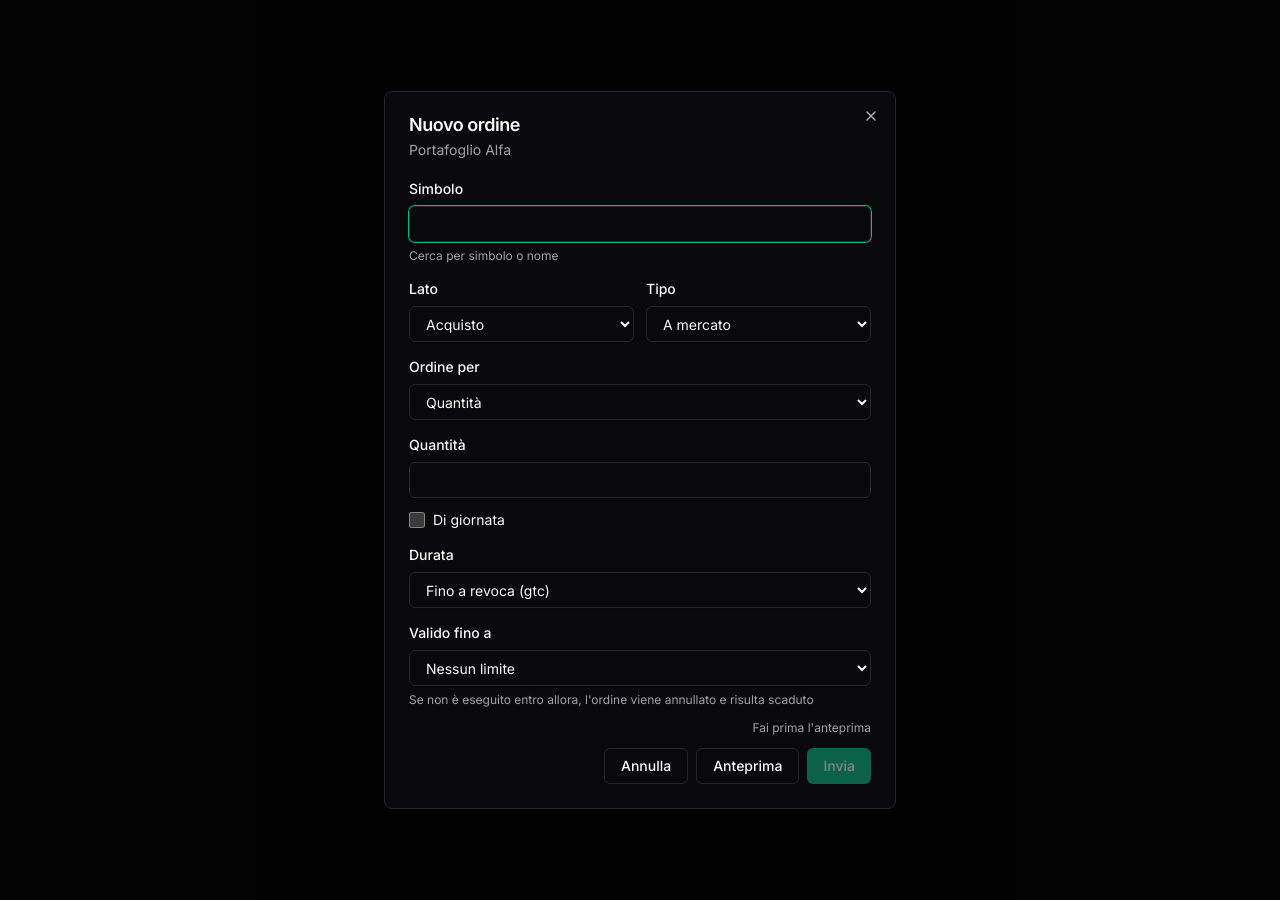
Scenario: OrderForm › shows the refusal of the preview and keeps Invia disabled
The width and height of the screenshot is (1280, 900).
Type "aap" into the field labelled "Simbolo".
click(640, 224); type("aap")  # box [409,206,871,242]
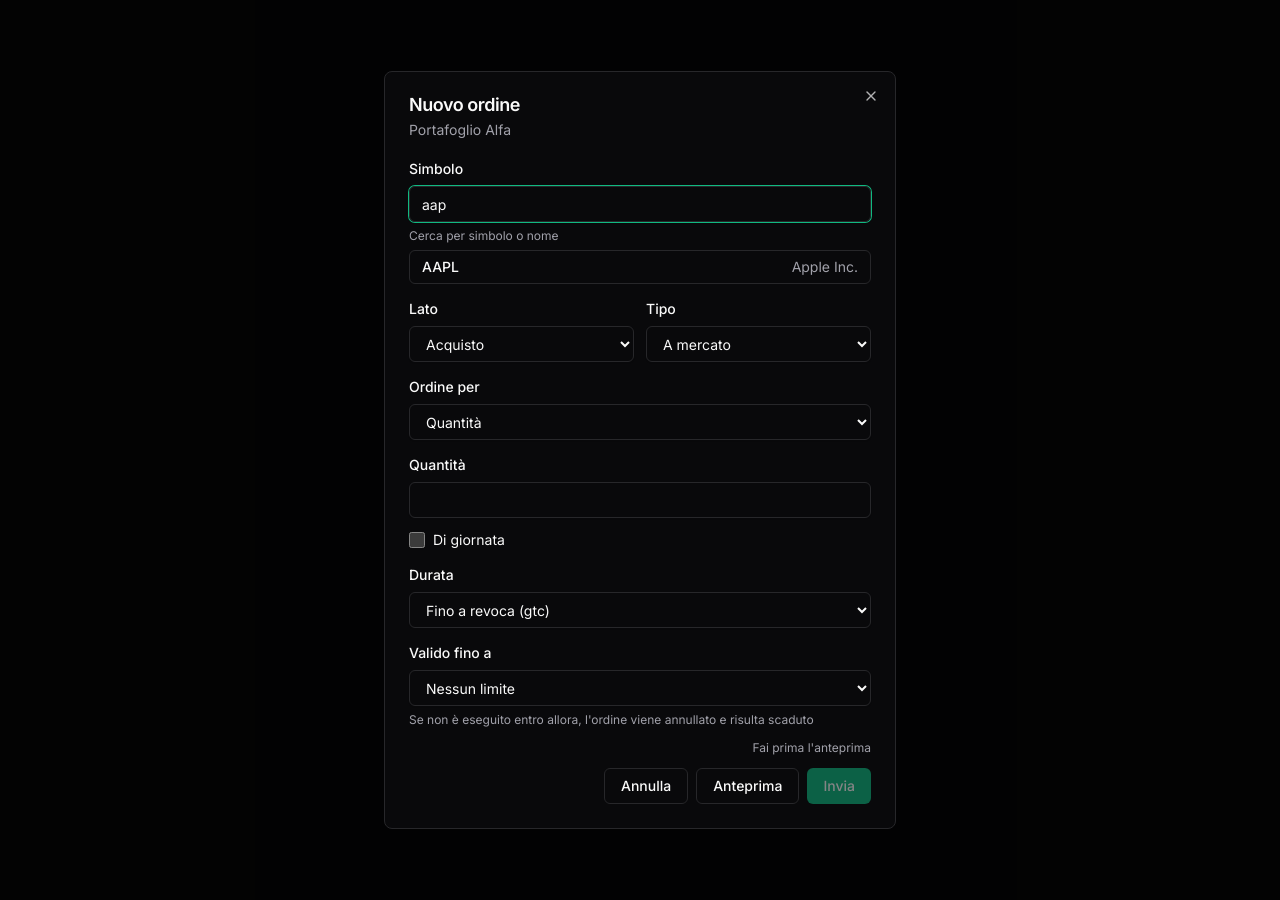
Click the button "AAPL Apple Inc.".
click(440, 266)  # box [410,251,870,283]
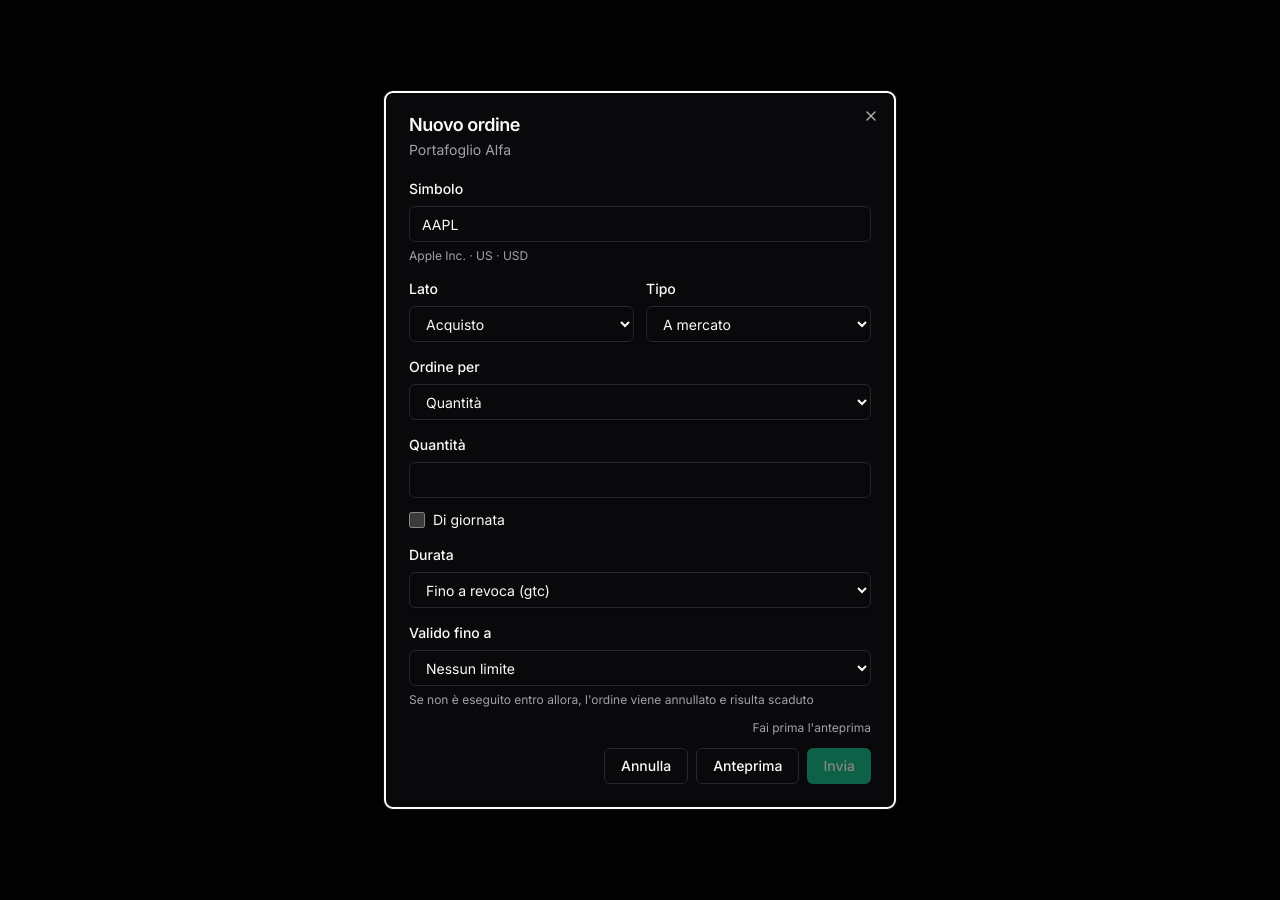
Type "100" into the field labelled "Quantità".
click(640, 480); type("100")  # box [409,462,871,498]
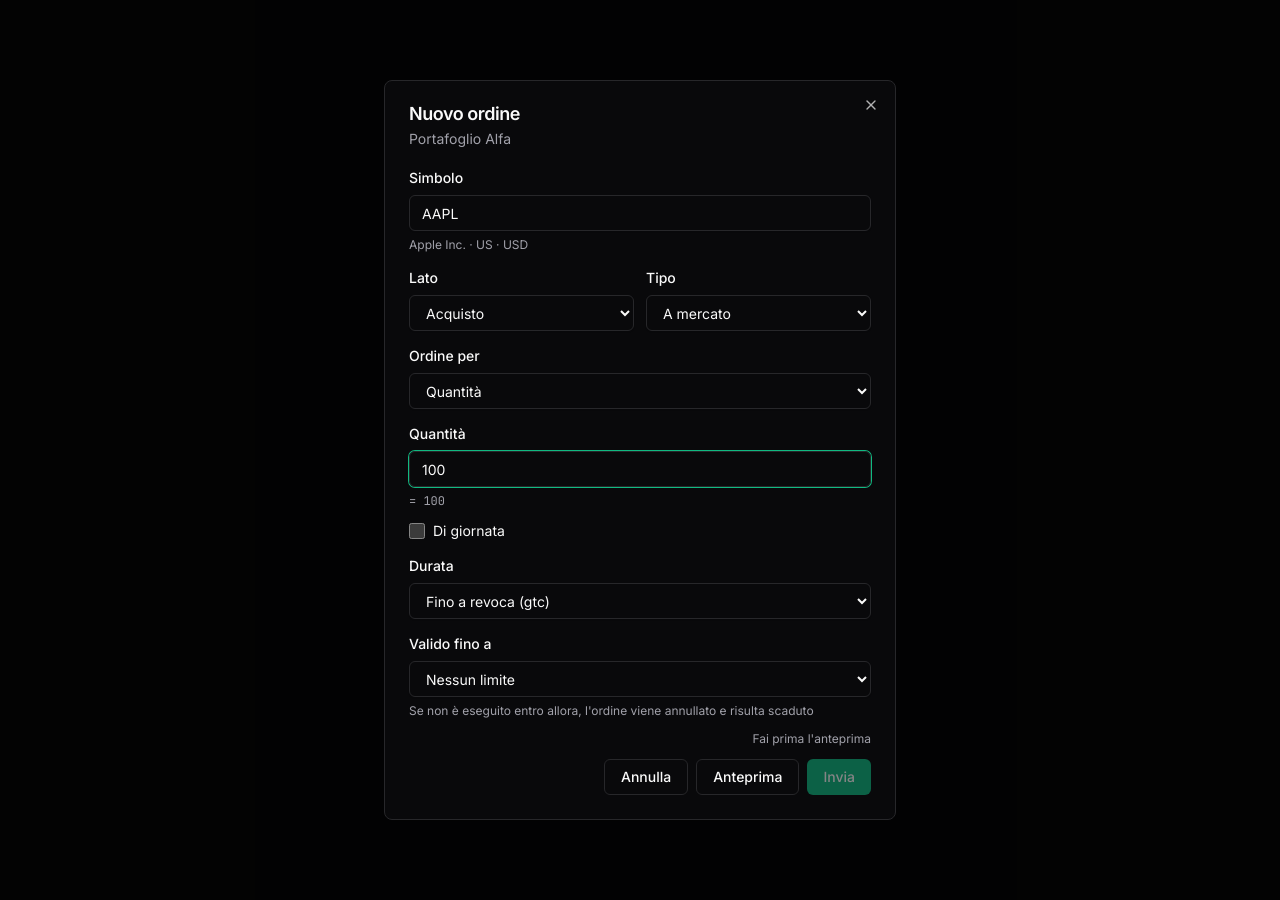
Click the button "Anteprima".
click(748, 777)  # box [696,759,800,795]
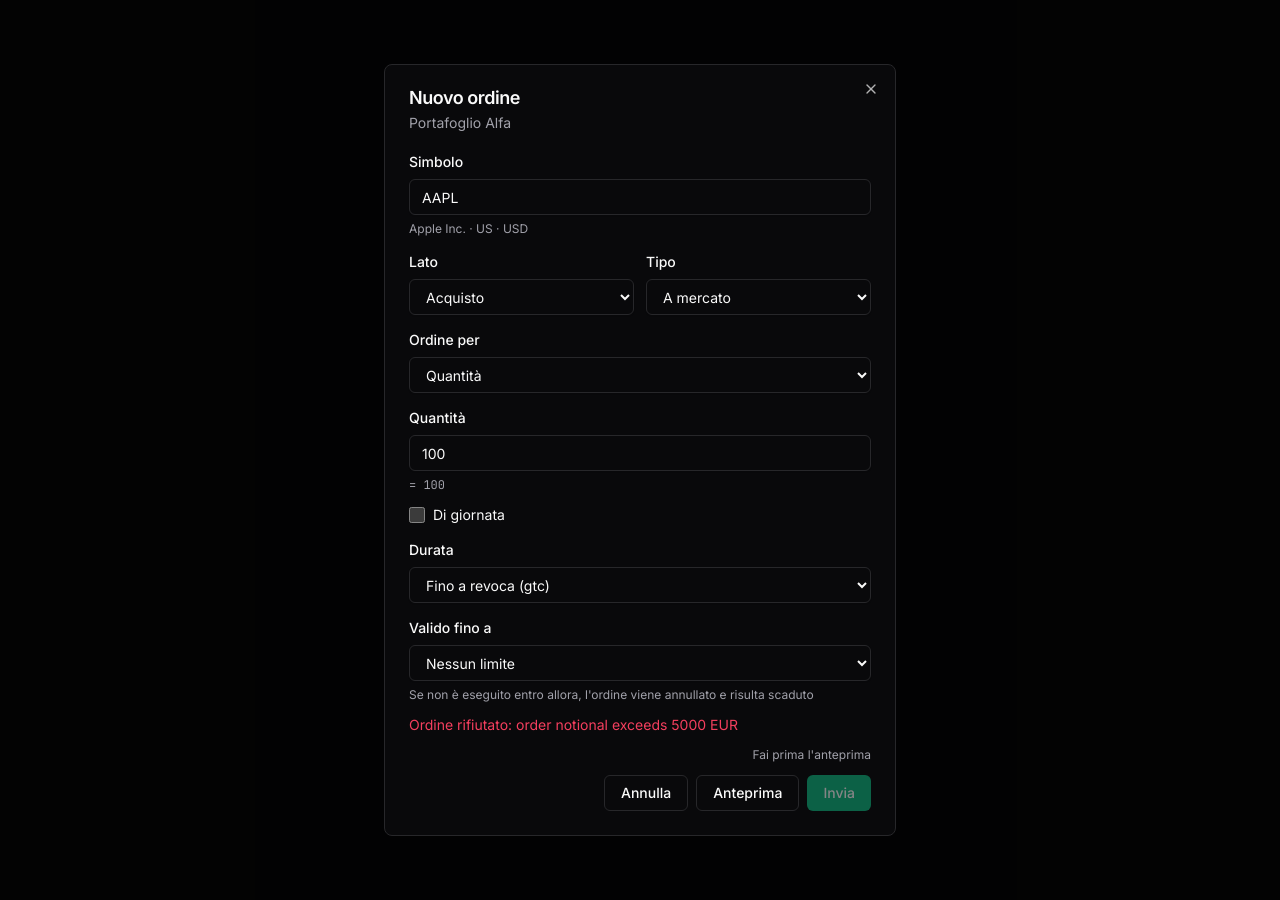
Expected: the button "Invia" is disabled, [808,775,871,811]
Now the message shows "order notional exceeds 5000 EUR", box [516,716,738,733]
